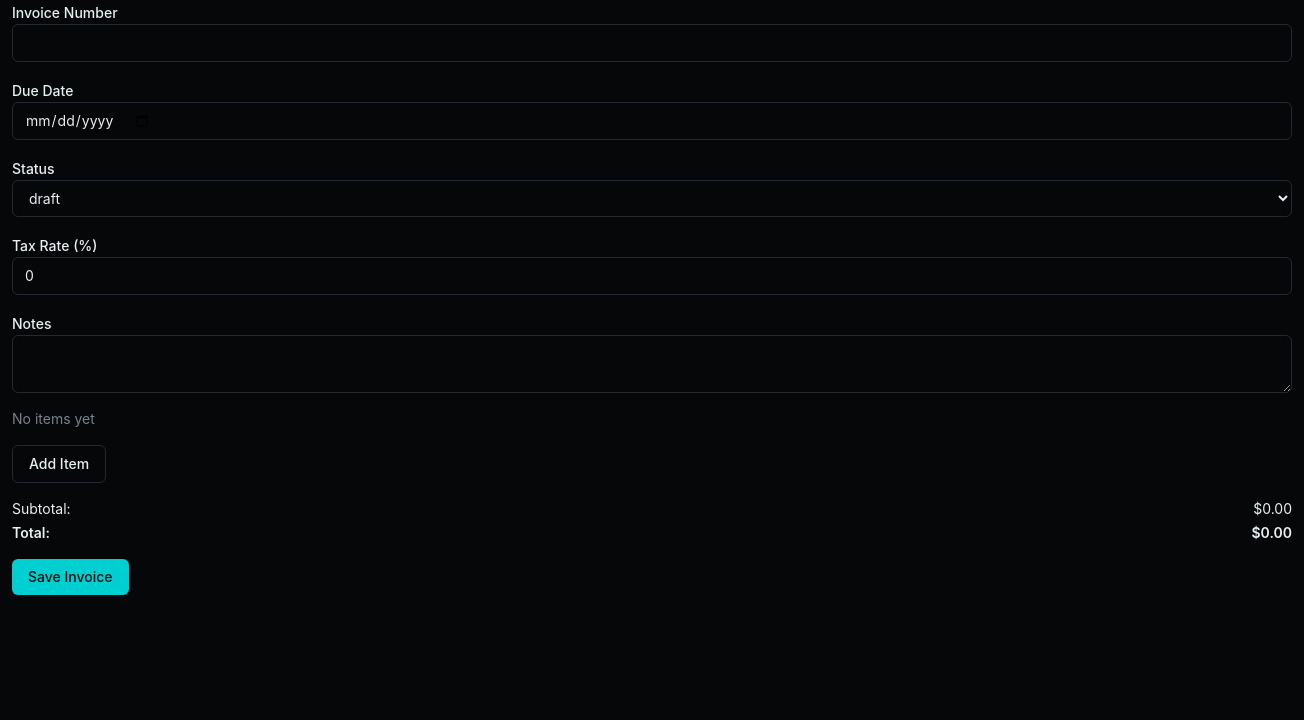
Test: InvoiceForm › should validate due date is required
Step 1. Type "INV-001" into the field labelled "Invoice Number" → point(652, 43), box [12, 24, 1292, 62]
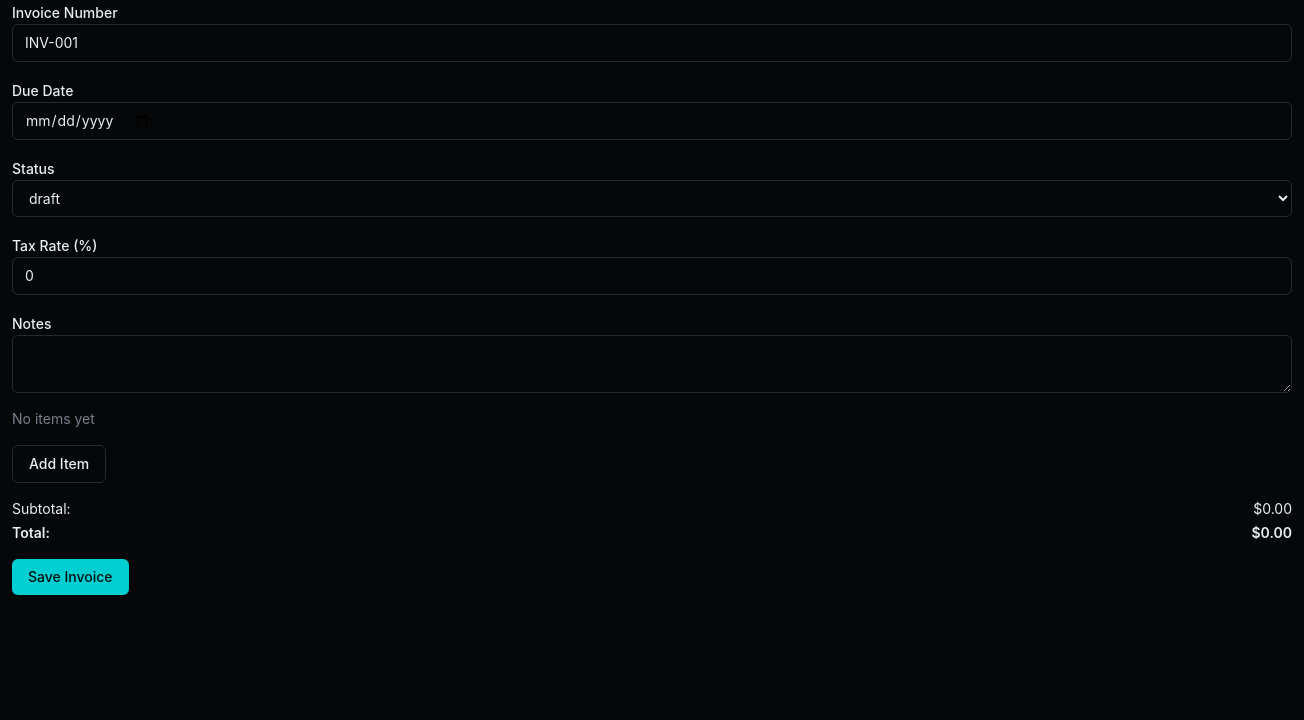
Step 2. Click the button "Save Invoice" → point(70, 577), box [12, 559, 129, 595]
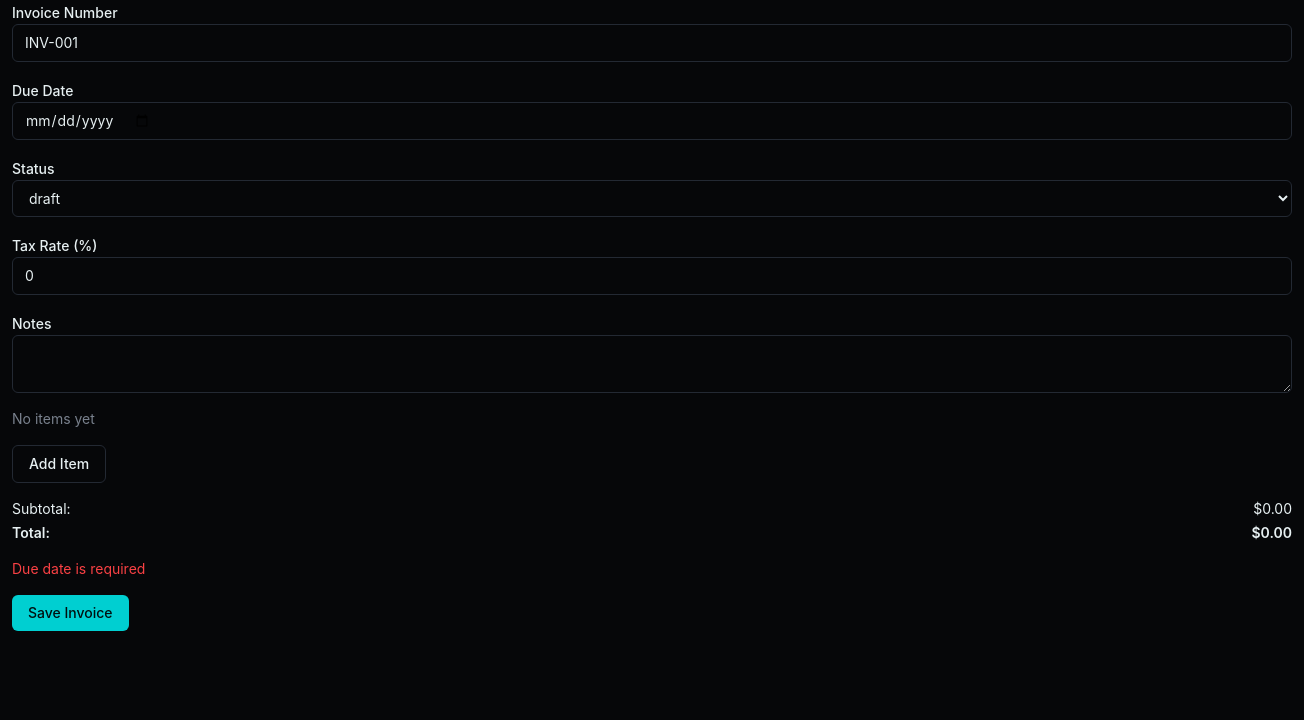
Expected: the text "Due date is required" is shown, [12, 560, 145, 577]
